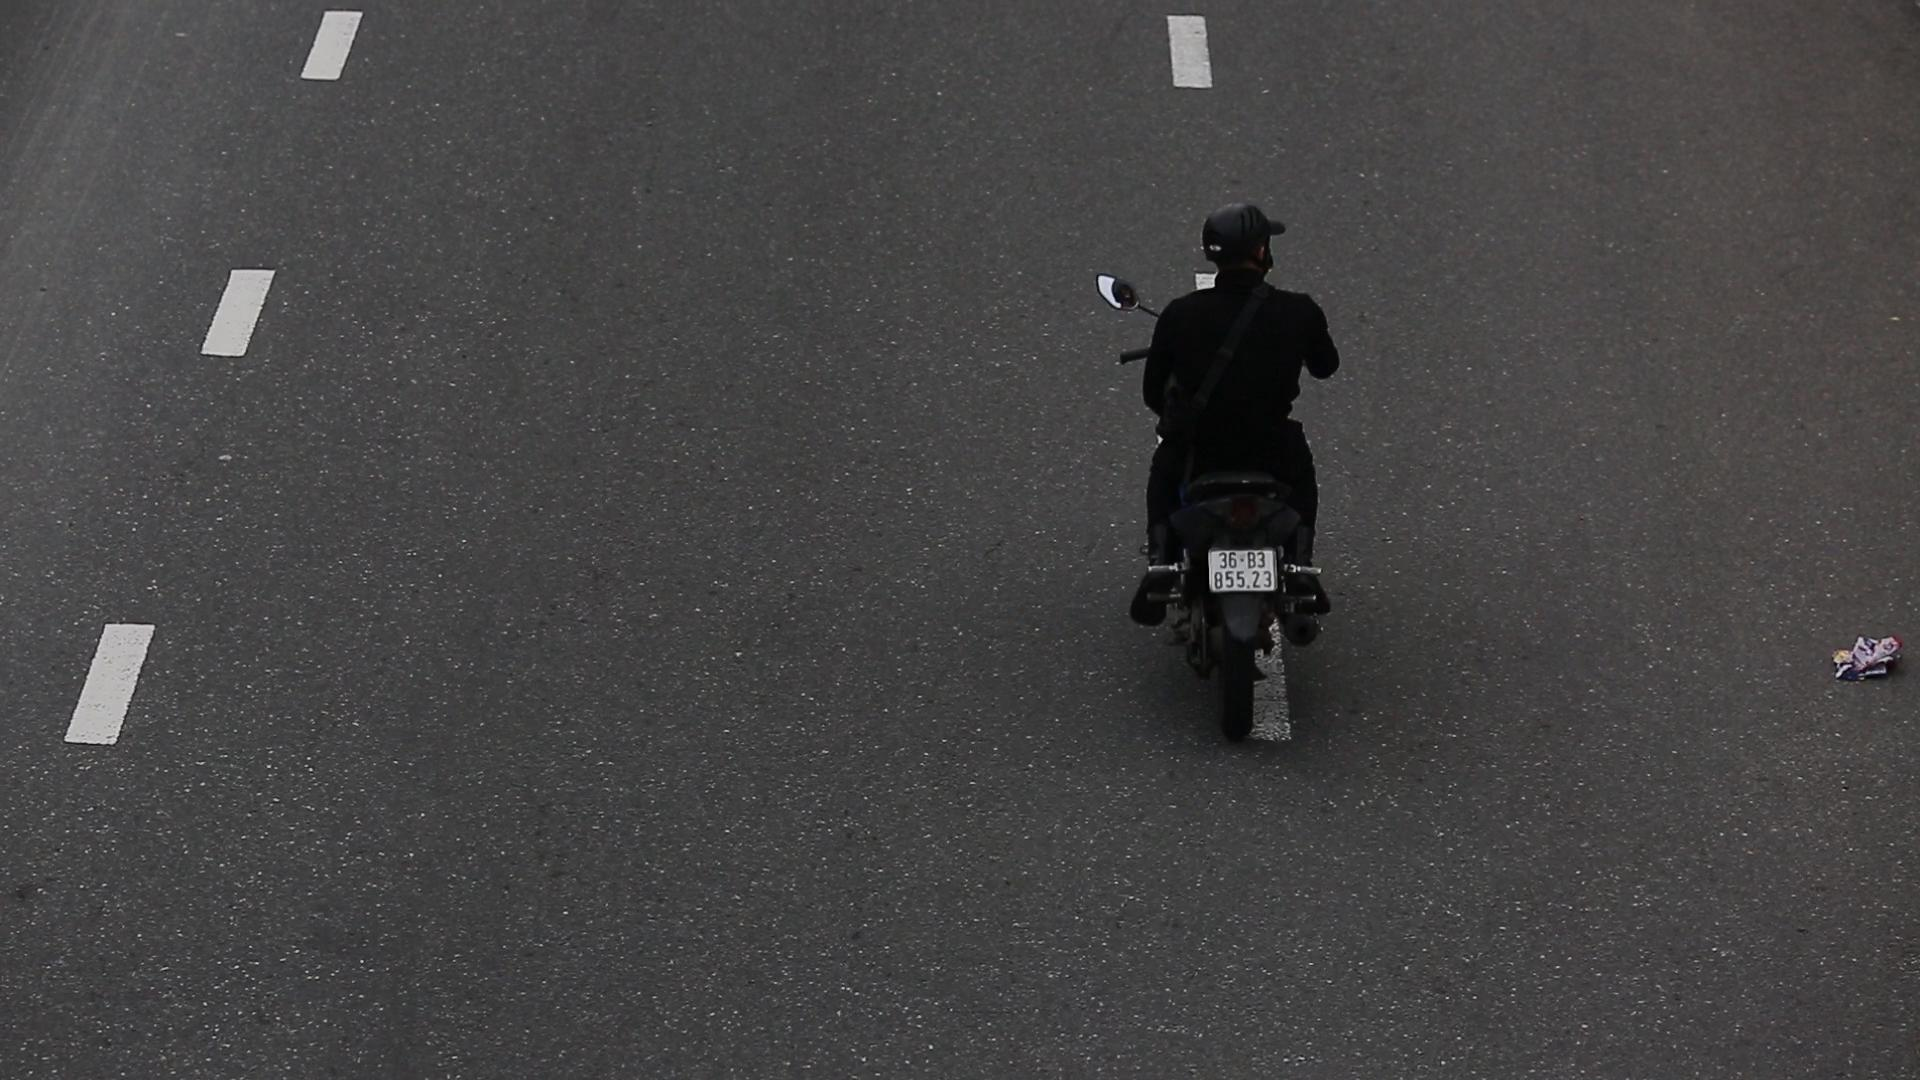motobike: (1065, 183, 1356, 756)
